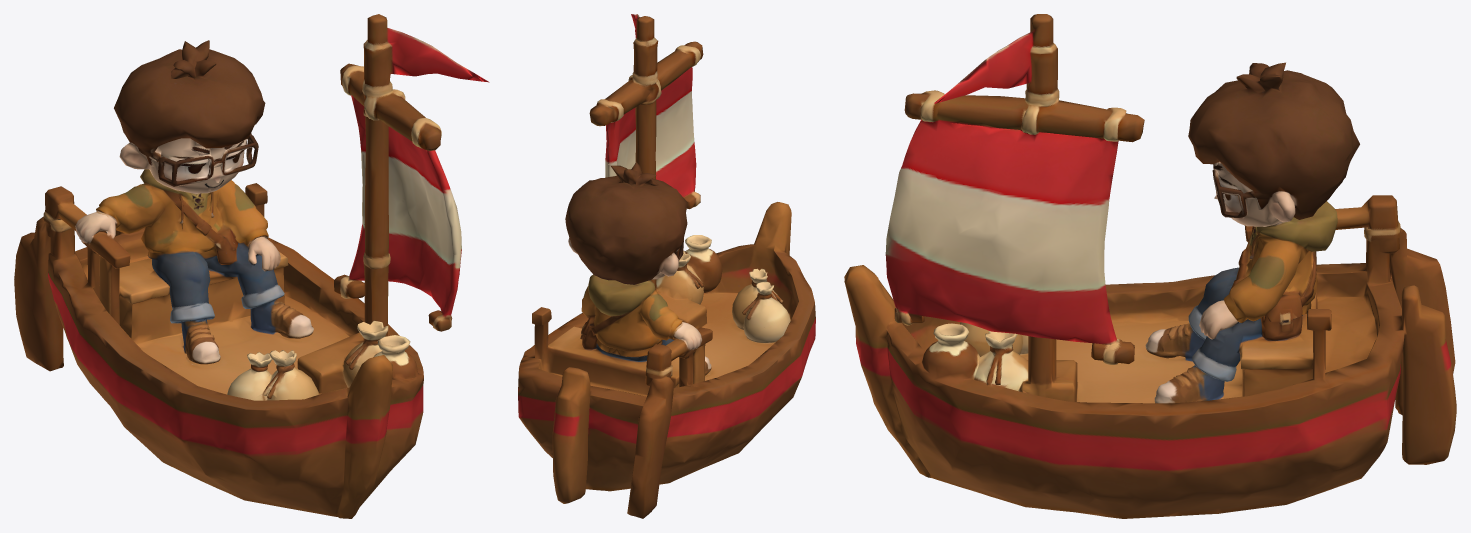
3 views of the same model, side by side, from view 1: azimuth 30°, elevation 25°; view 2: azimuth 150°, elevation 25°; view 3: azimuth 270°, elevation 25° (orthographic). The views are drawn at different scales.
Visible parts, largest first — view 1: tripo_node_b8936f59-3916-41e3-90a6-8262c22a52cf; view 2: tripo_node_b8936f59-3916-41e3-90a6-8262c22a52cf; view 3: tripo_node_b8936f59-3916-41e3-90a6-8262c22a52cf.
Part boxes in pixels (<box>): tripo_node_b8936f59-3916-41e3-90a6-8262c22a52cf: <box>14,14,489,518</box>; tripo_node_b8936f59-3916-41e3-90a6-8262c22a52cf: <box>518,14,815,518</box>; tripo_node_b8936f59-3916-41e3-90a6-8262c22a52cf: <box>844,14,1456,518</box>.
Bounding box in the file's own units: 0.5548 × 0.8863 × 0.9811.
2 materials, 2 textured.
